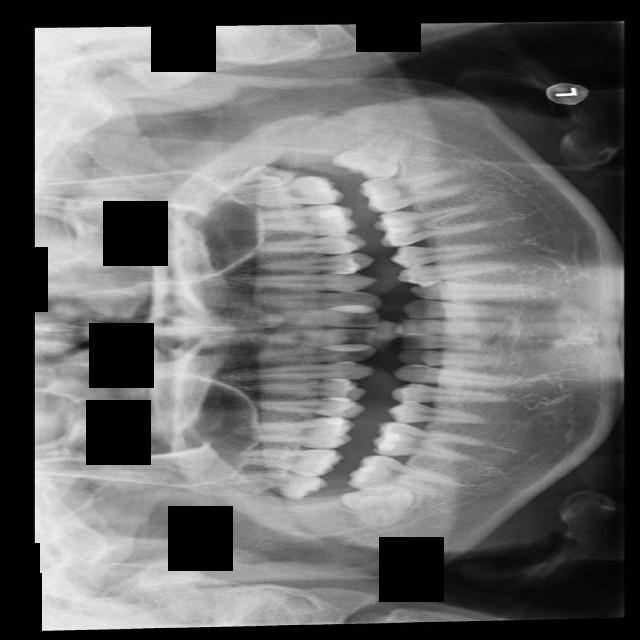3M ESPE Implant: (237, 471, 329, 500)
52: (370, 417, 422, 461), (300, 202, 360, 236), (299, 416, 356, 448)
73: (576, 36, 585, 50)
BioHorizons Implant: (221, 173, 345, 207)
BioLife Implant: (217, 159, 296, 195)
Biomet 3i Implant: (330, 122, 411, 185)
Blue Sky Bio Implant: (358, 167, 472, 215)
Caries: (236, 448, 344, 476)
Implant: (347, 452, 454, 497)
Keystone Dental Implant: (341, 479, 417, 531)
